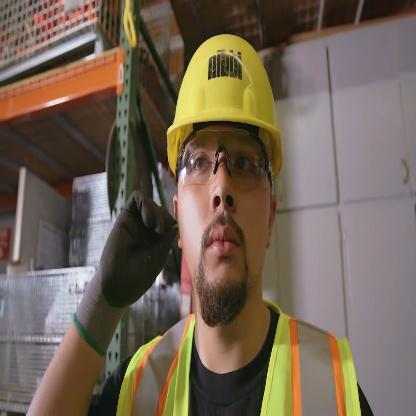helmet: (158, 26, 294, 348)
